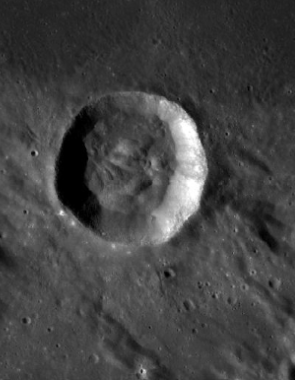crater: (25, 57, 250, 303)
